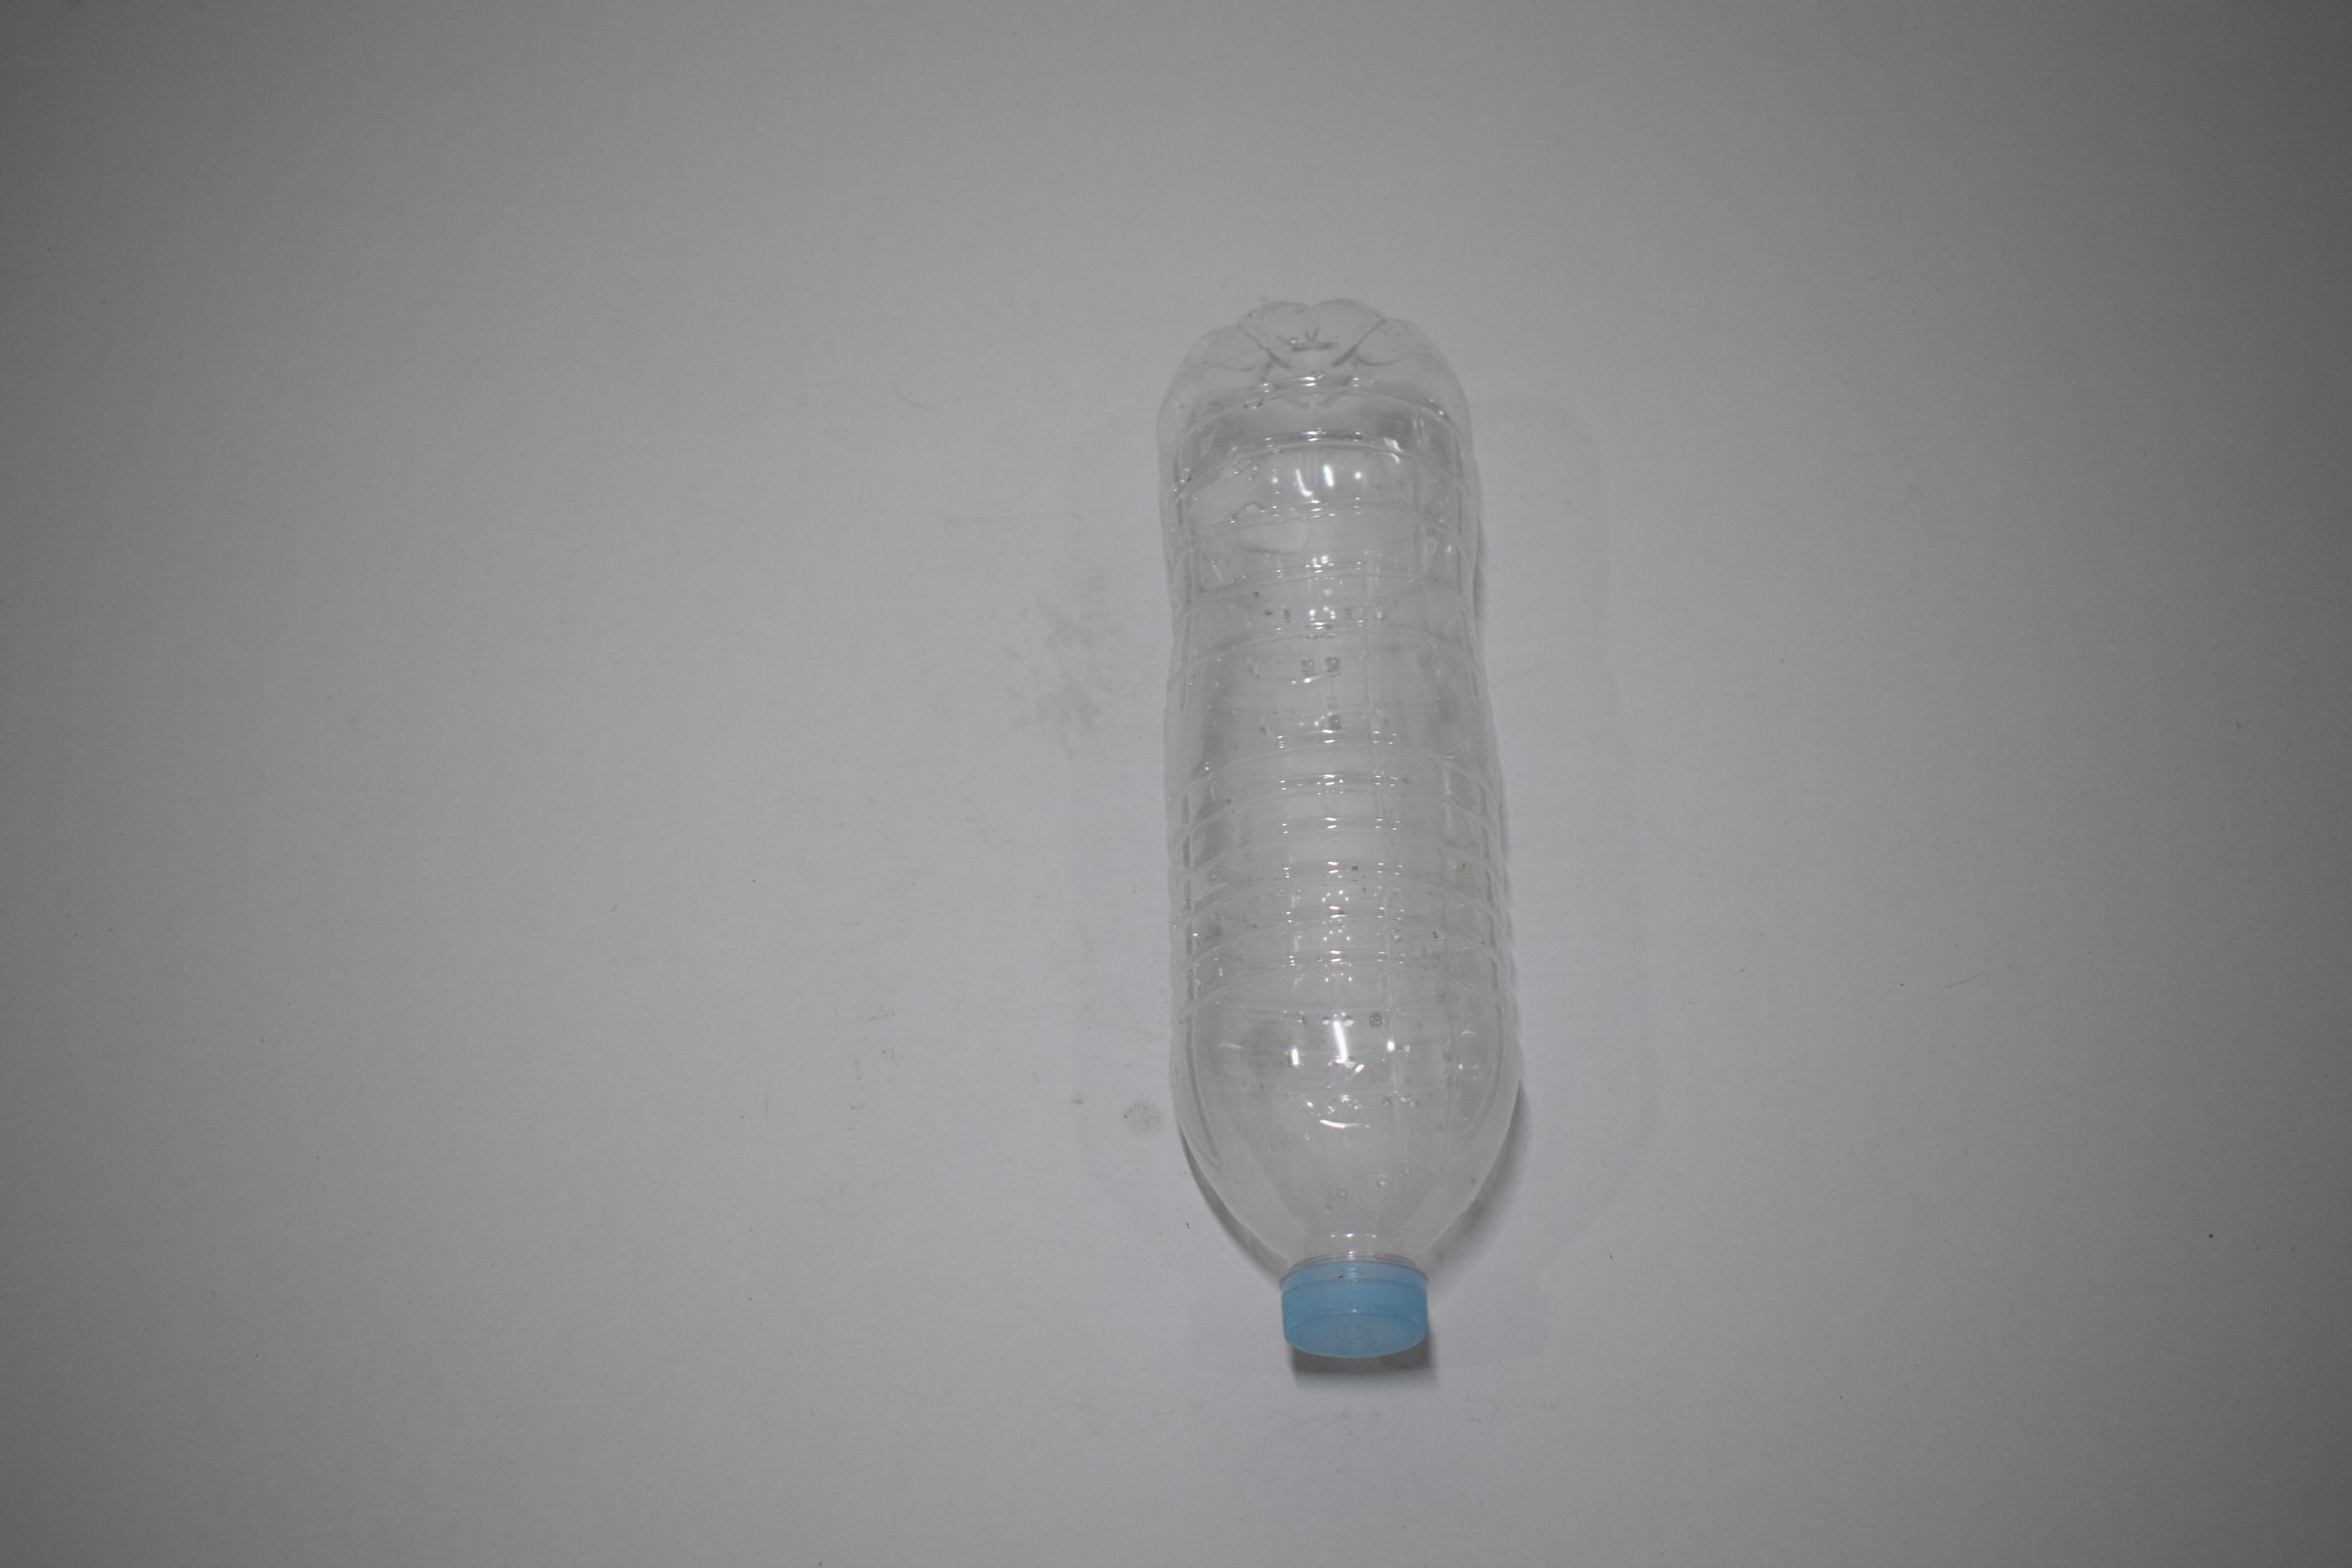bottle: (42, 0, 297, 588)
